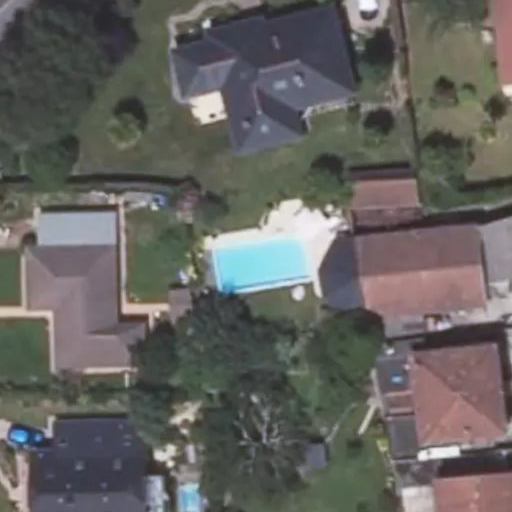pool: (200, 222, 311, 261)
